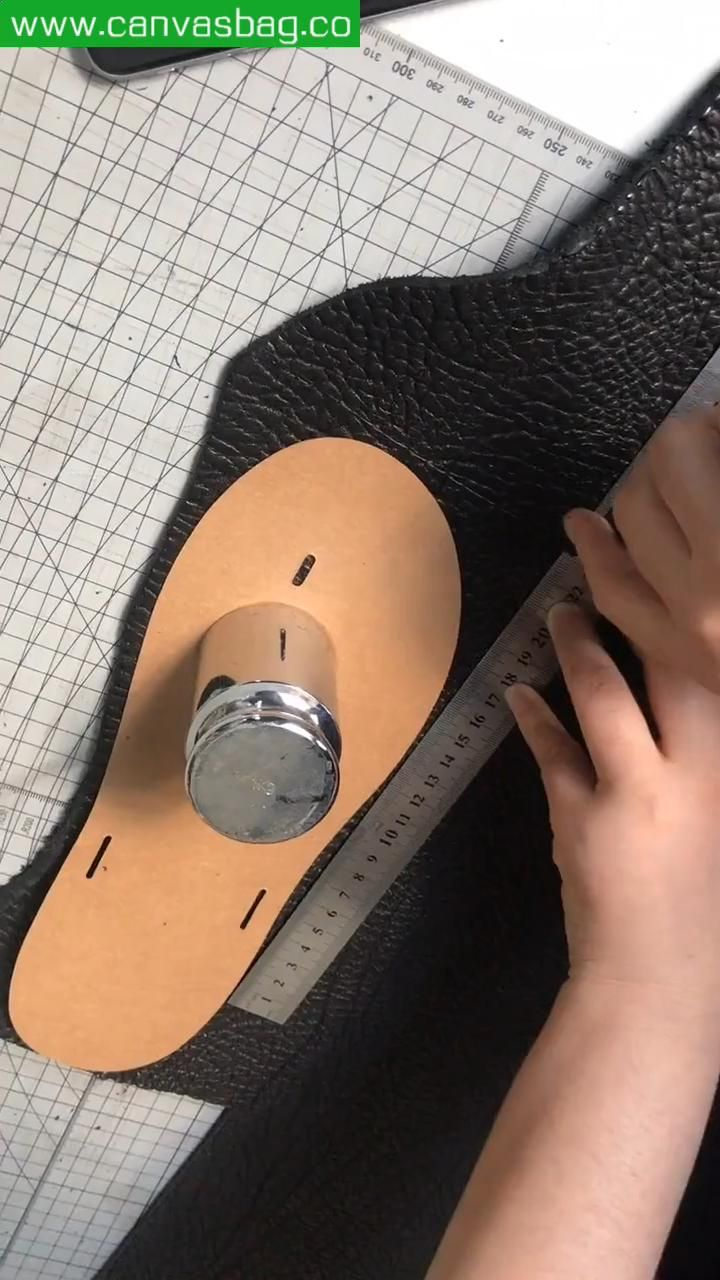cuero: (1, 72, 720, 1115)
